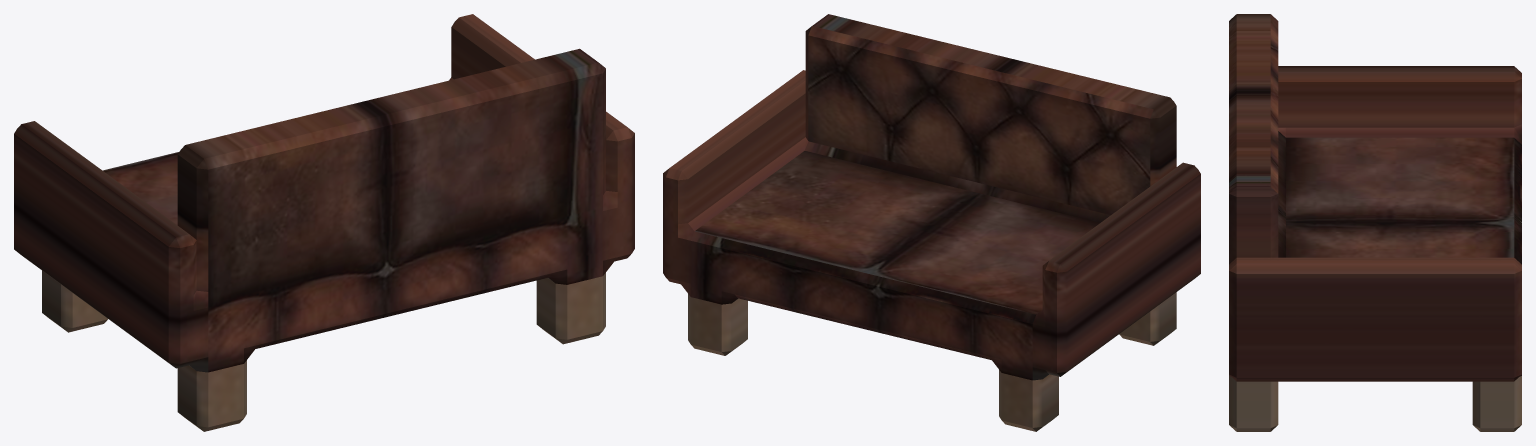
File: Sofa.fbx
3 views of the same model, side by side, from view 1: azimuth 30°, elevation 25°; view 2: azimuth 150°, elevation 25°; view 3: azimuth 270°, elevation 25° (orthographic). The views are drawn at different scales.
Parts seen in each view (by area): view 1: Cube.043; view 2: Cube.043; view 3: Cube.043.
Part boxes in pixels (x1,y1,x2,y2): Cube.043: (14, 14, 634, 431); Cube.043: (663, 14, 1200, 431); Cube.043: (1229, 14, 1521, 431).
Bounding box in the file's own units: 303 × 170 × 184.
1 material, 1 textured.
